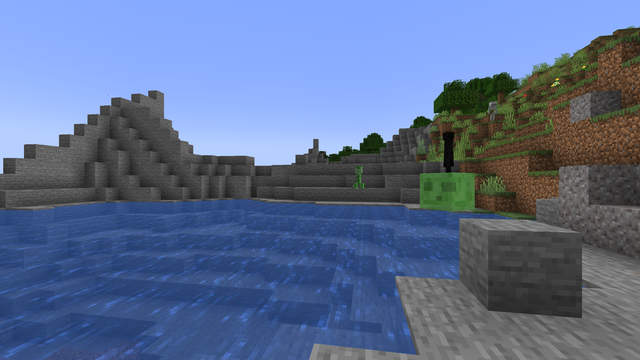creepers: (354, 165, 362, 188)
endermens: (442, 130, 454, 163)
slimes: (422, 171, 473, 211)
squelettes: (488, 101, 496, 121)
